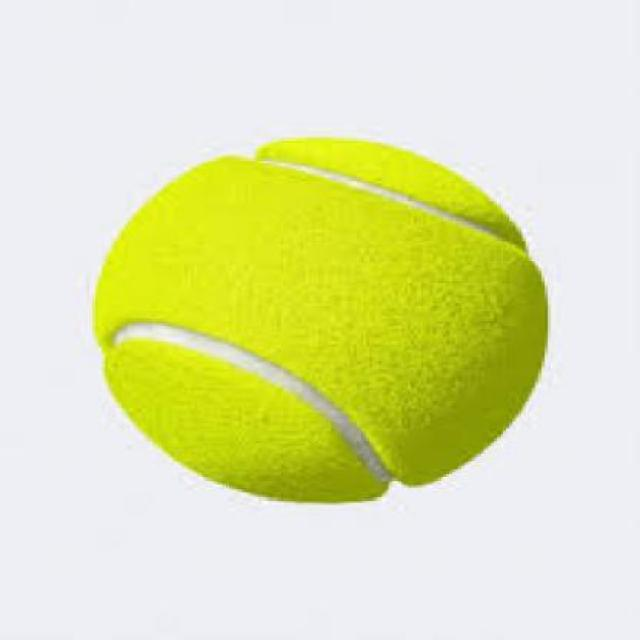ball: (66, 98, 594, 556)
